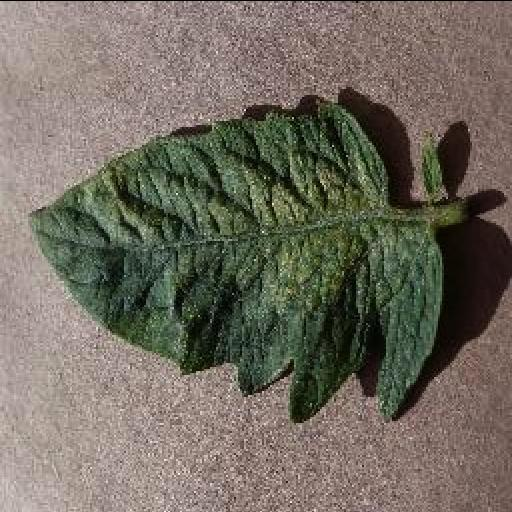disease_tomato: (24, 94, 442, 420)
